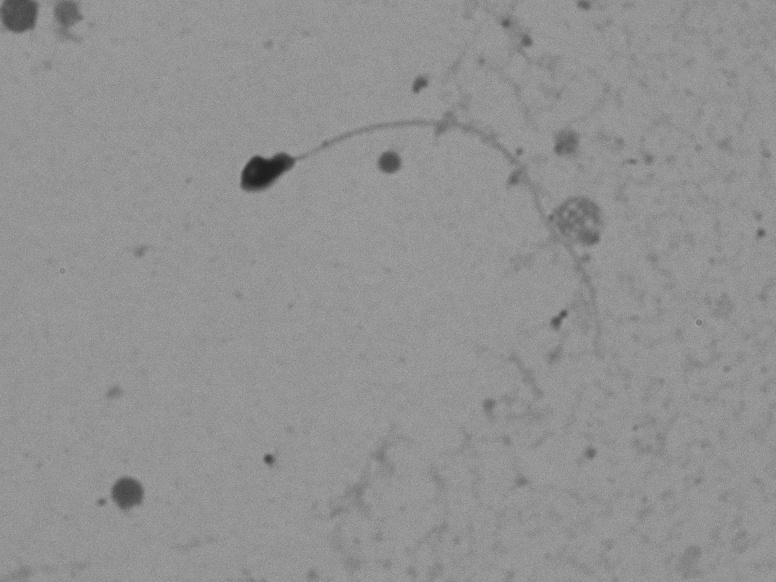Abnormal: (183, 81, 615, 384)
